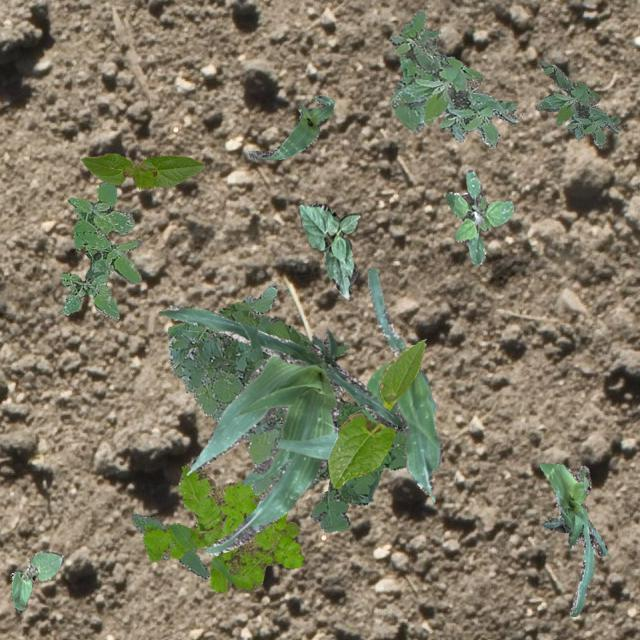crop: (158, 304, 402, 554), (344, 266, 442, 494), (326, 338, 424, 488), (538, 462, 608, 616), (296, 202, 358, 298), (248, 94, 334, 158), (80, 152, 204, 188), (9, 550, 64, 612)
weed: (166, 300, 404, 532), (166, 284, 280, 494), (142, 461, 302, 593), (388, 34, 518, 148), (60, 180, 142, 320), (534, 60, 620, 146), (391, 8, 446, 132), (444, 168, 512, 264), (130, 512, 208, 578)
